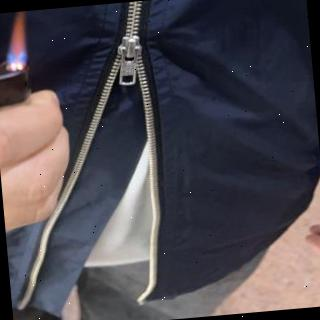fire: (2, 11, 34, 73)
